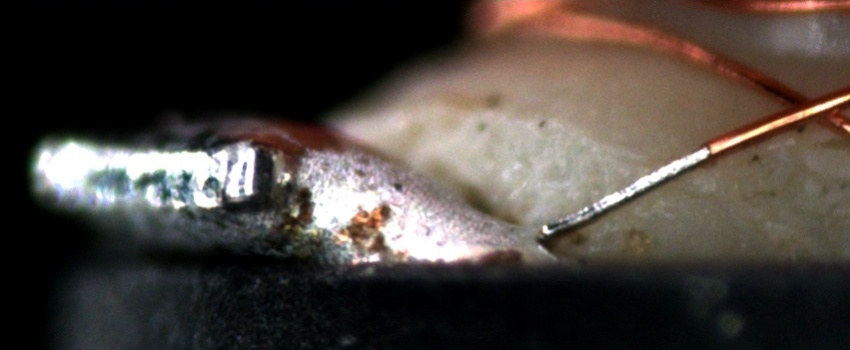CL: (758, 75, 848, 134)
TS: (536, 145, 712, 236)
